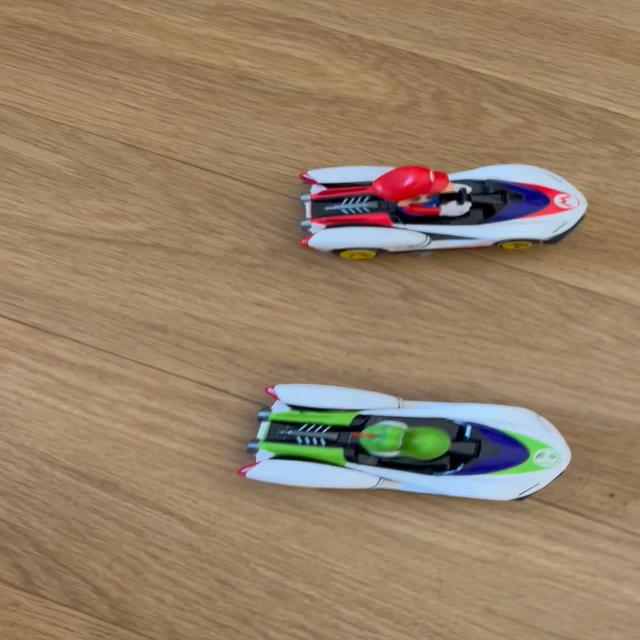mario: (254, 142, 608, 261)
yoshi: (246, 374, 582, 506)
